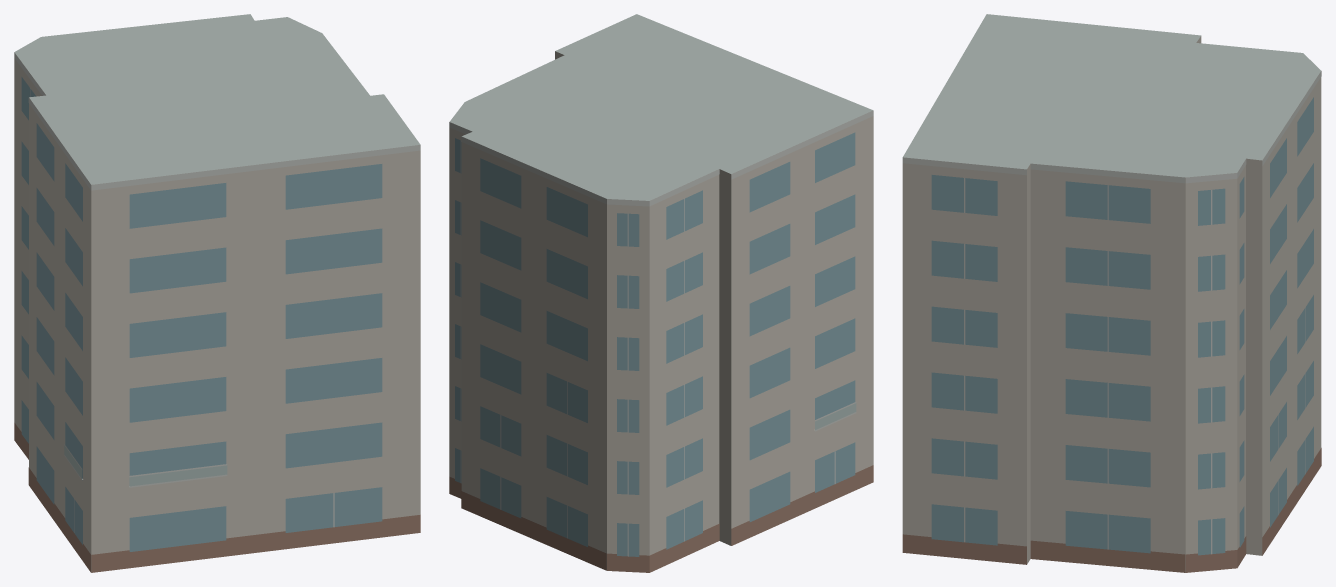
File: survey-upis-32634793.glb
3 views of the same model, side by side, from view 1: azimuth 30°, elevation 25°; view 2: azimuth 150°, elevation 25°; view 3: azimuth 270°, elevation 25° (orthographic). The views are drawn at different scales.
Parts seen in each view (by area): view 1: survey-upis-32634793.tmp; view 2: survey-upis-32634793.tmp; view 3: survey-upis-32634793.tmp.
Boxes of the visible parts, <box> form: survey-upis-32634793.tmp: <box>14,14,420,572</box>; survey-upis-32634793.tmp: <box>449,14,873,572</box>; survey-upis-32634793.tmp: <box>902,14,1321,572</box>.
Bounding box in the file's own units: 14.6 × 16.45 × 15.8.
